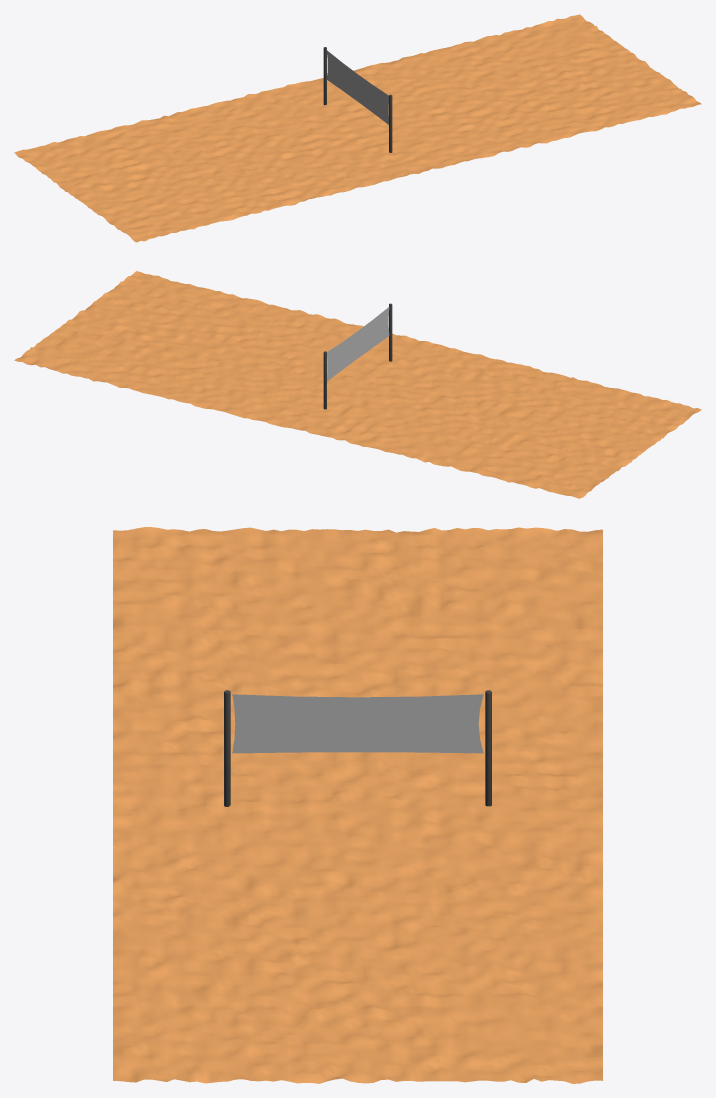
3 views of the same model, one above another, from view 1: azimuth 30°, elevation 25°; view 2: azimuth 150°, elevation 25°; view 3: azimuth 270°, elevation 25° (orthographic). The views are drawn at different scales.
Visible parts, largest first — view 1: Sand, Net; view 2: Sand, Net; view 3: Sand, Net.
Boxes of the visible parts, x1=… form: Sand: x1=14, y1=14, x2=701, y2=242; Net: x1=326, y1=50, x2=388, y2=124; Sand: x1=14, y1=271, x2=701, y2=498; Net: x1=327, y1=307, x2=389, y2=381; Sand: x1=113, y1=527, x2=602, y2=1083; Net: x1=232, y1=694, x2=483, y2=753.
Bounding box in the file's own units: 400 × 150 × 40.
